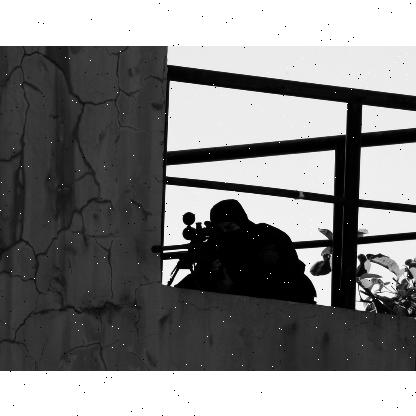gun: (154, 214, 240, 290)
